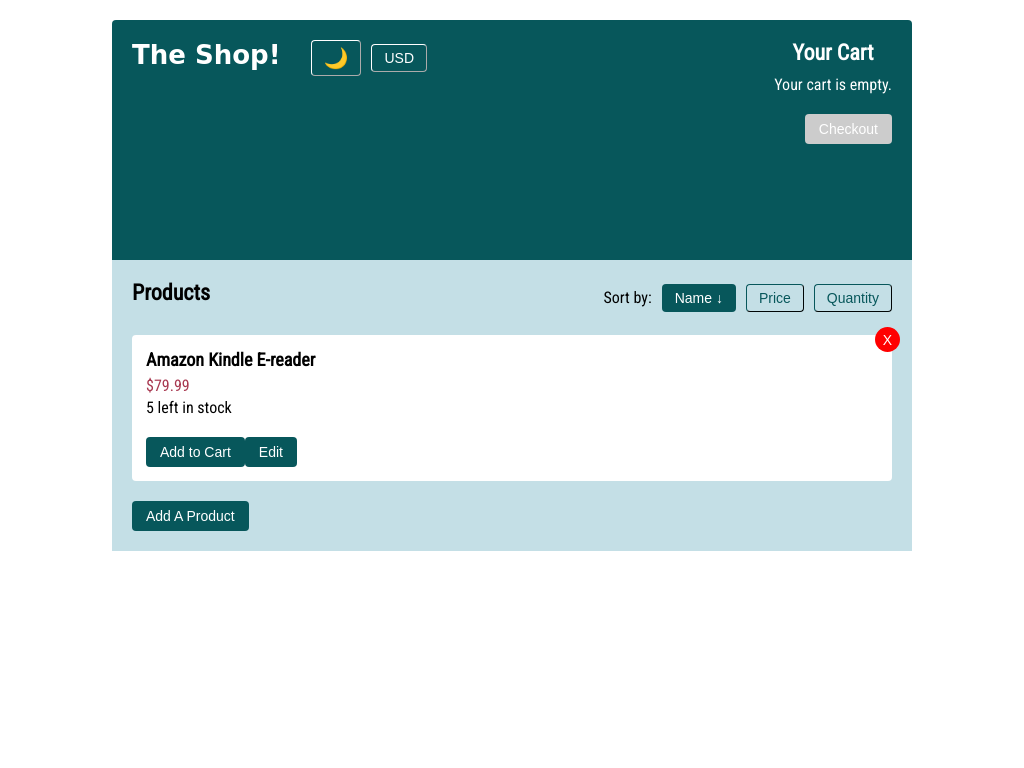
clicking edit shows edit form
The width and height of the screenshot is (1024, 768).
Click the button "Edit" at (271, 452), box [245,437,297,467]
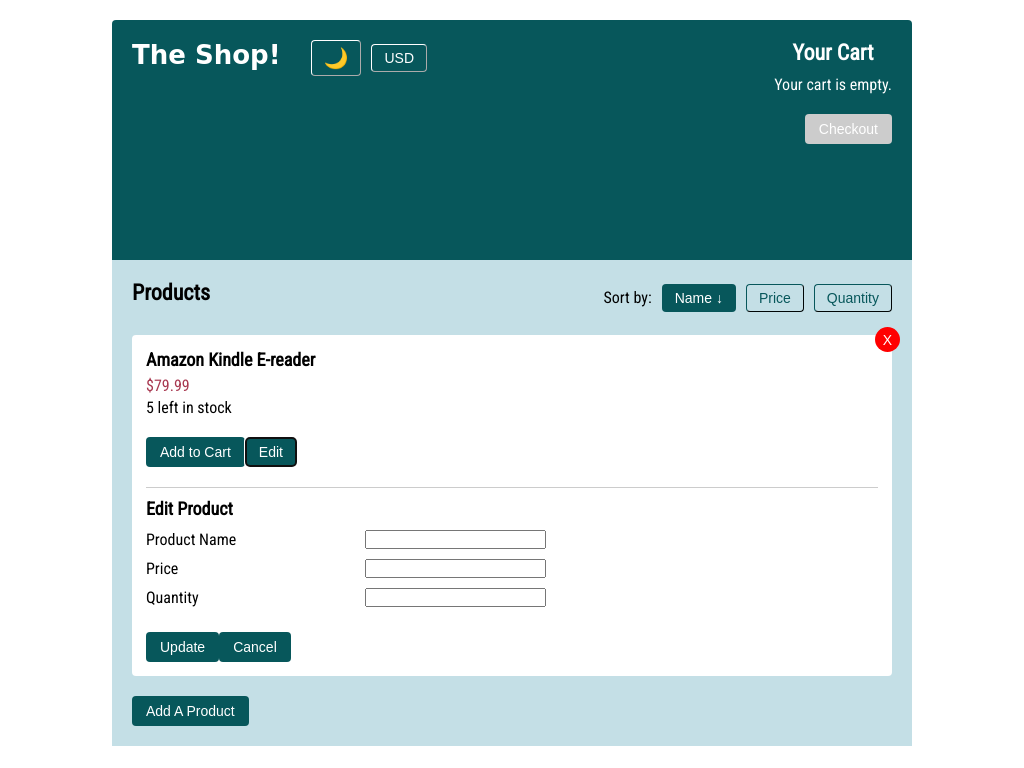
Now the heading "Edit Product" is shown, box [146,498,233,519]
